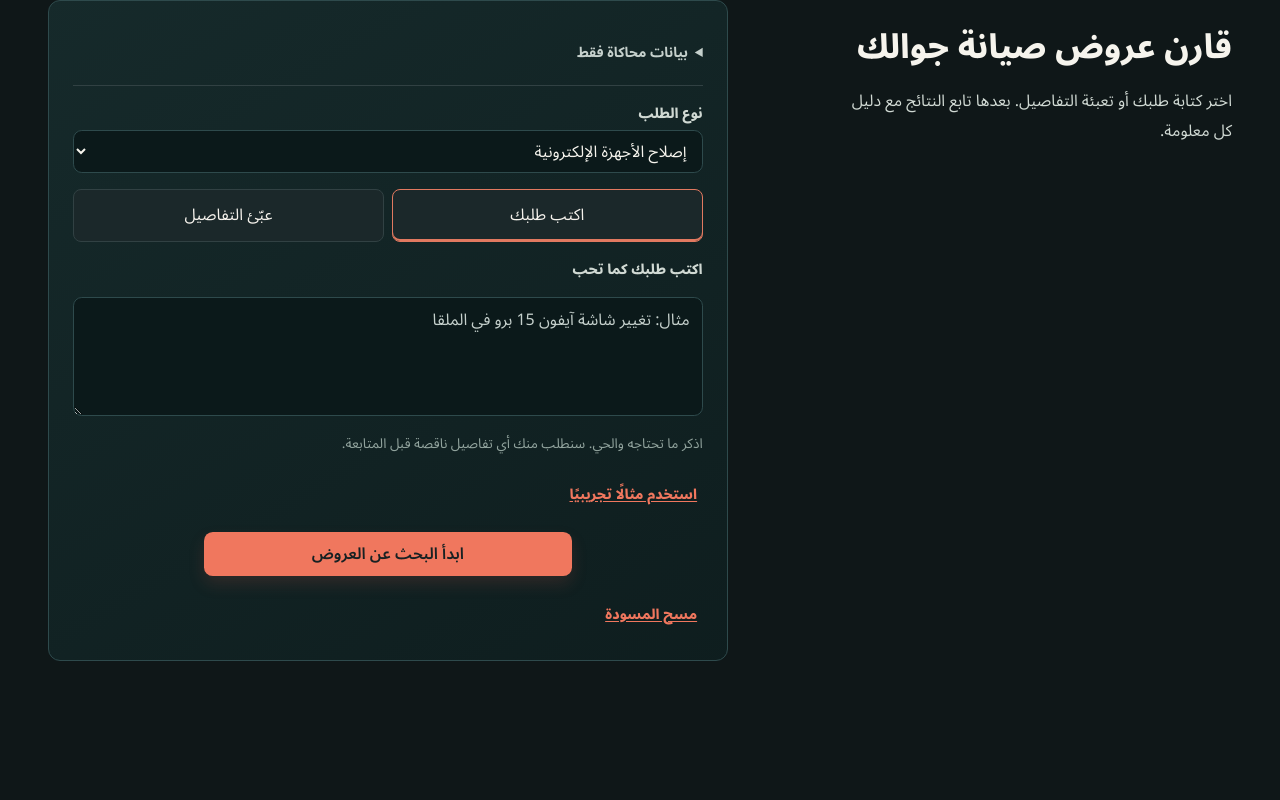
fixture task flow › uses phase-specific copy when a task fails before discovering shops
The width and height of the screenshot is (1280, 800).
Type "أبي أغير شاشة جوالي" into the text box named "وش تبي تصلّح؟".
click(388, 356); type("أبي أغير شاشة جوالي")  # box top-left (73, 297), bottom-right (703, 416)
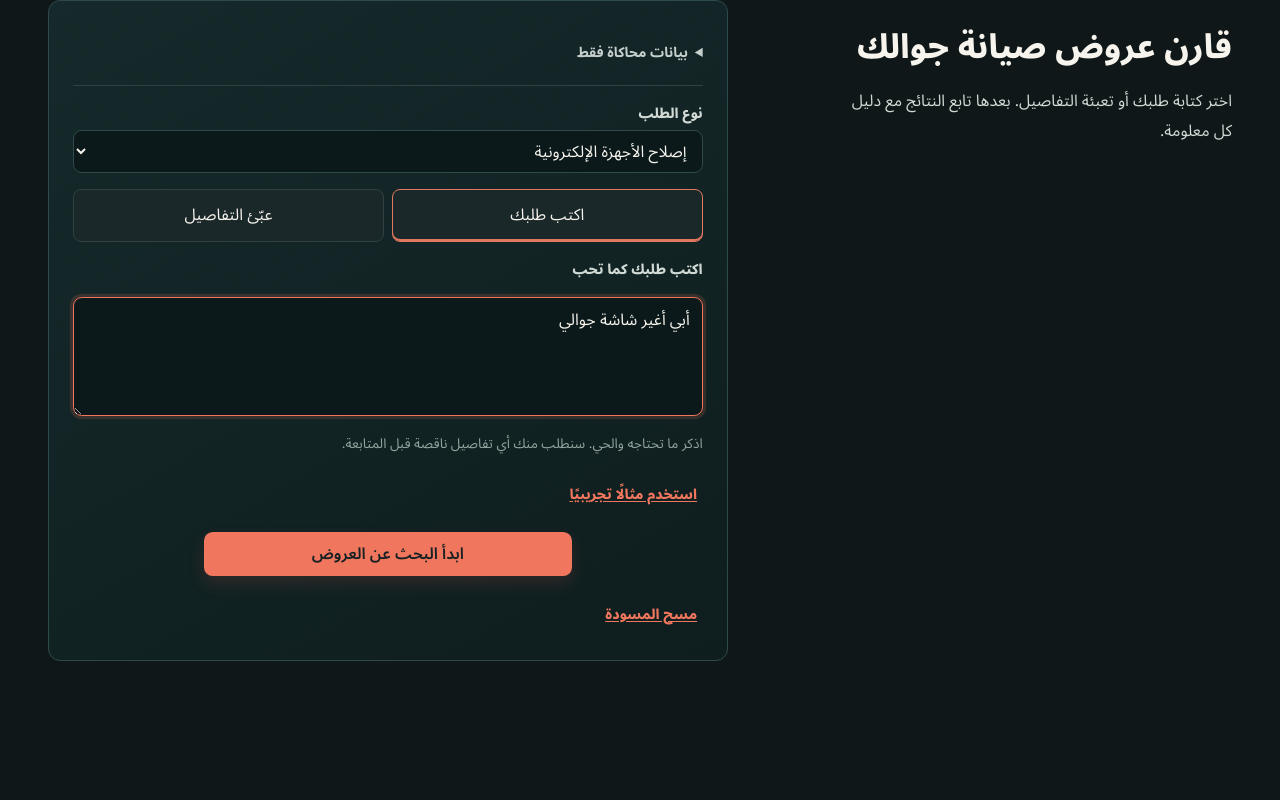
Click the button "ابدأ البحث عن العروض".
click(388, 554)  # box top-left (204, 532), bottom-right (572, 576)
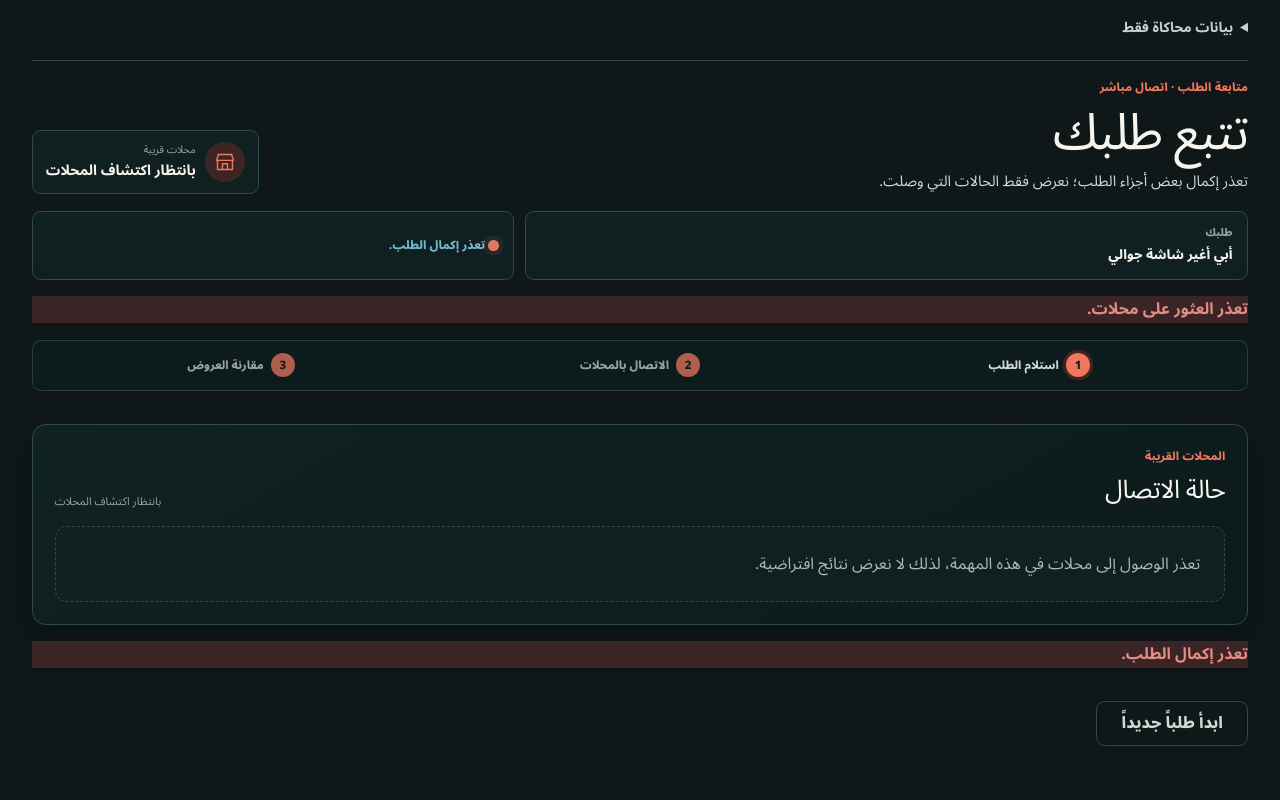
Now the text "تعذر إكمال بعض أجزاء الطلب؛ نعرض فقط الحالات التي وصلت." is shown, box top-left (879, 170), bottom-right (1248, 194)
Now the text "تعذر الوصول إلى محلات في هذه المهمة، لذلك لا نعرض نتائج افتراضية." is shown, box top-left (55, 526), bottom-right (1225, 602)
